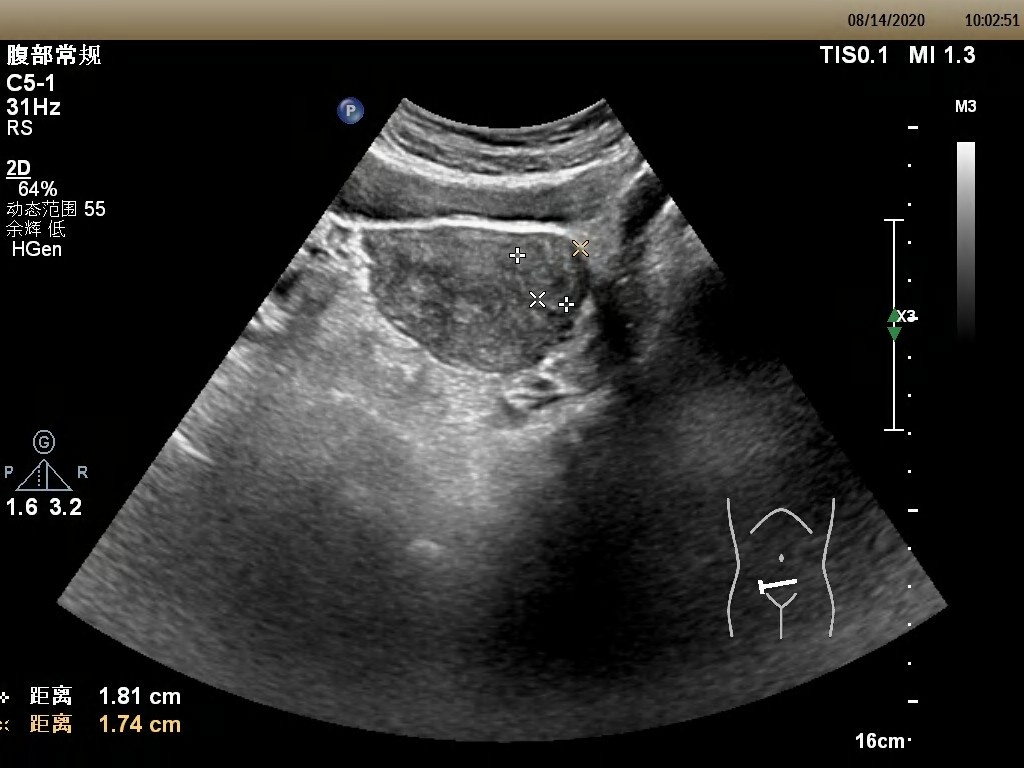肌瘤: (507, 236, 583, 311)
